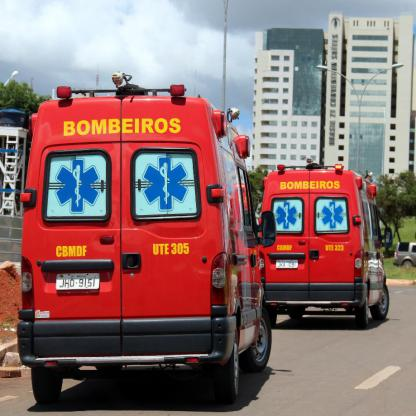Ambulance: (16, 71, 274, 399), (259, 156, 390, 326)
